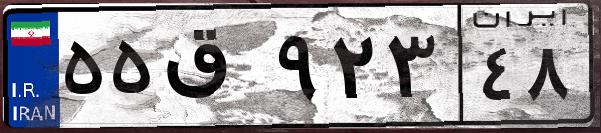2: (330, 28, 385, 110)
3: (385, 28, 445, 110)
4: (475, 38, 525, 113)
5: (57, 26, 110, 100), (110, 28, 158, 98)
8: (525, 38, 570, 115)
9: (270, 28, 330, 110)
ق: (158, 20, 270, 120)
